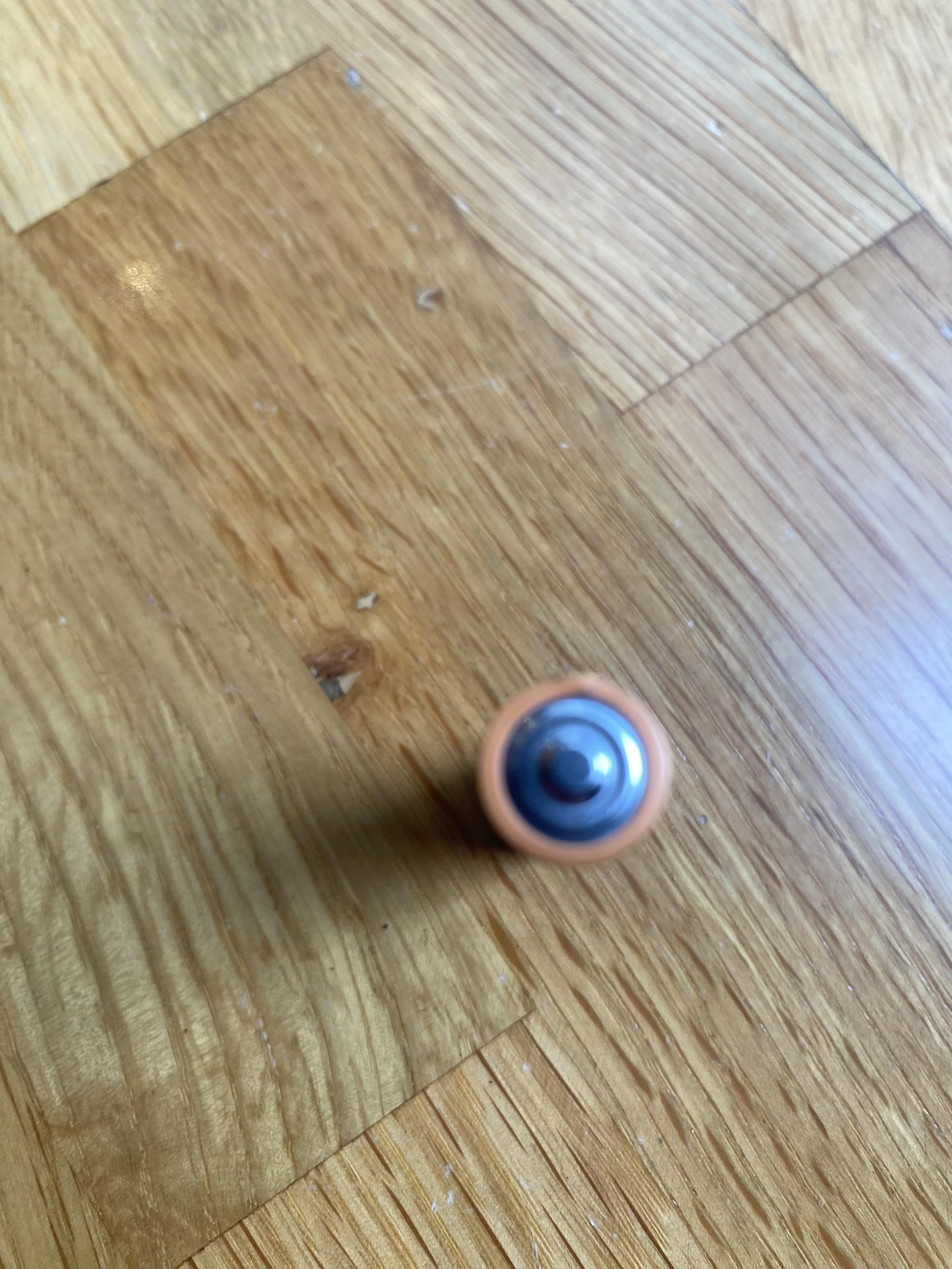AA: (475, 672, 674, 864)
